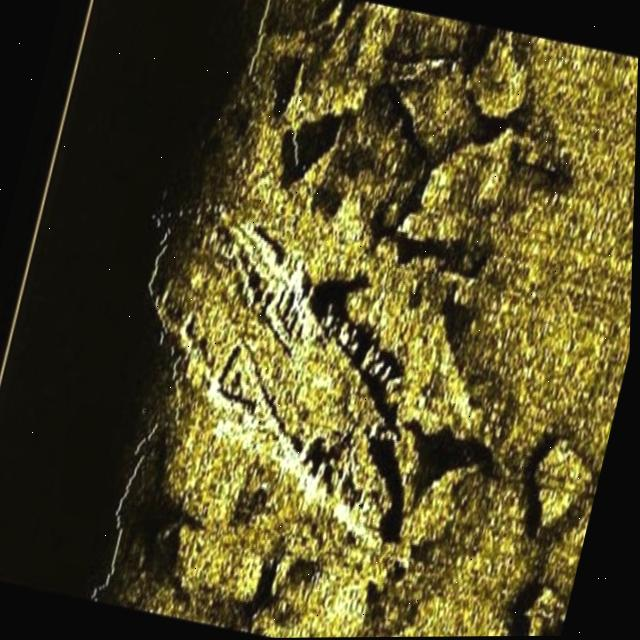shipwreck: (85, 206, 456, 547)
